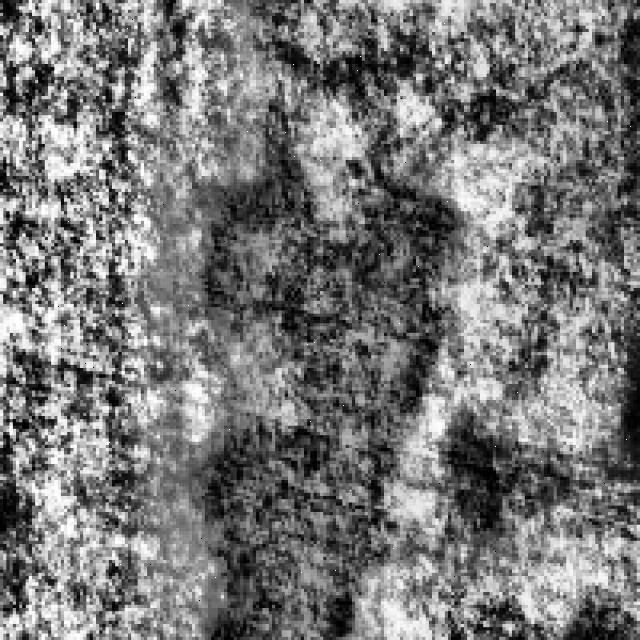Scratches: (185, 148, 460, 630), (438, 406, 589, 544)
